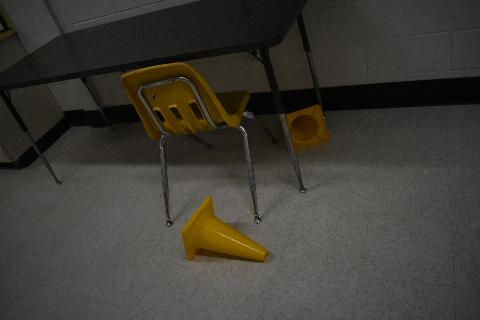cone: (181, 194, 269, 264), (284, 104, 330, 152)
